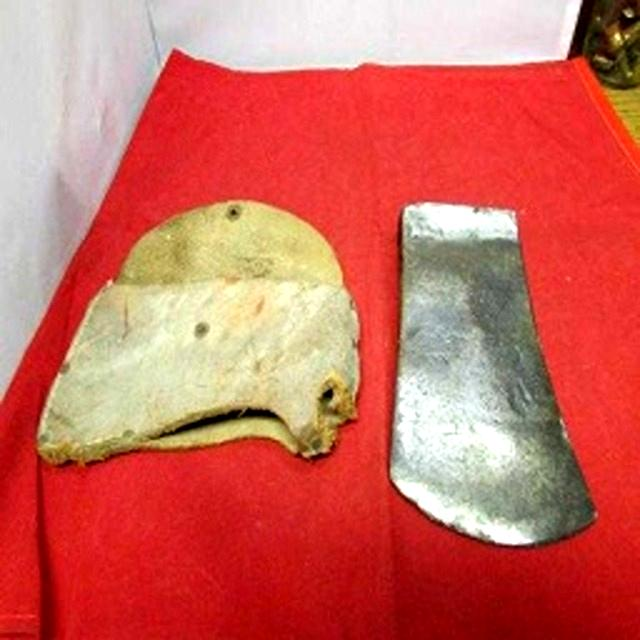ax: (378, 187, 612, 554)
